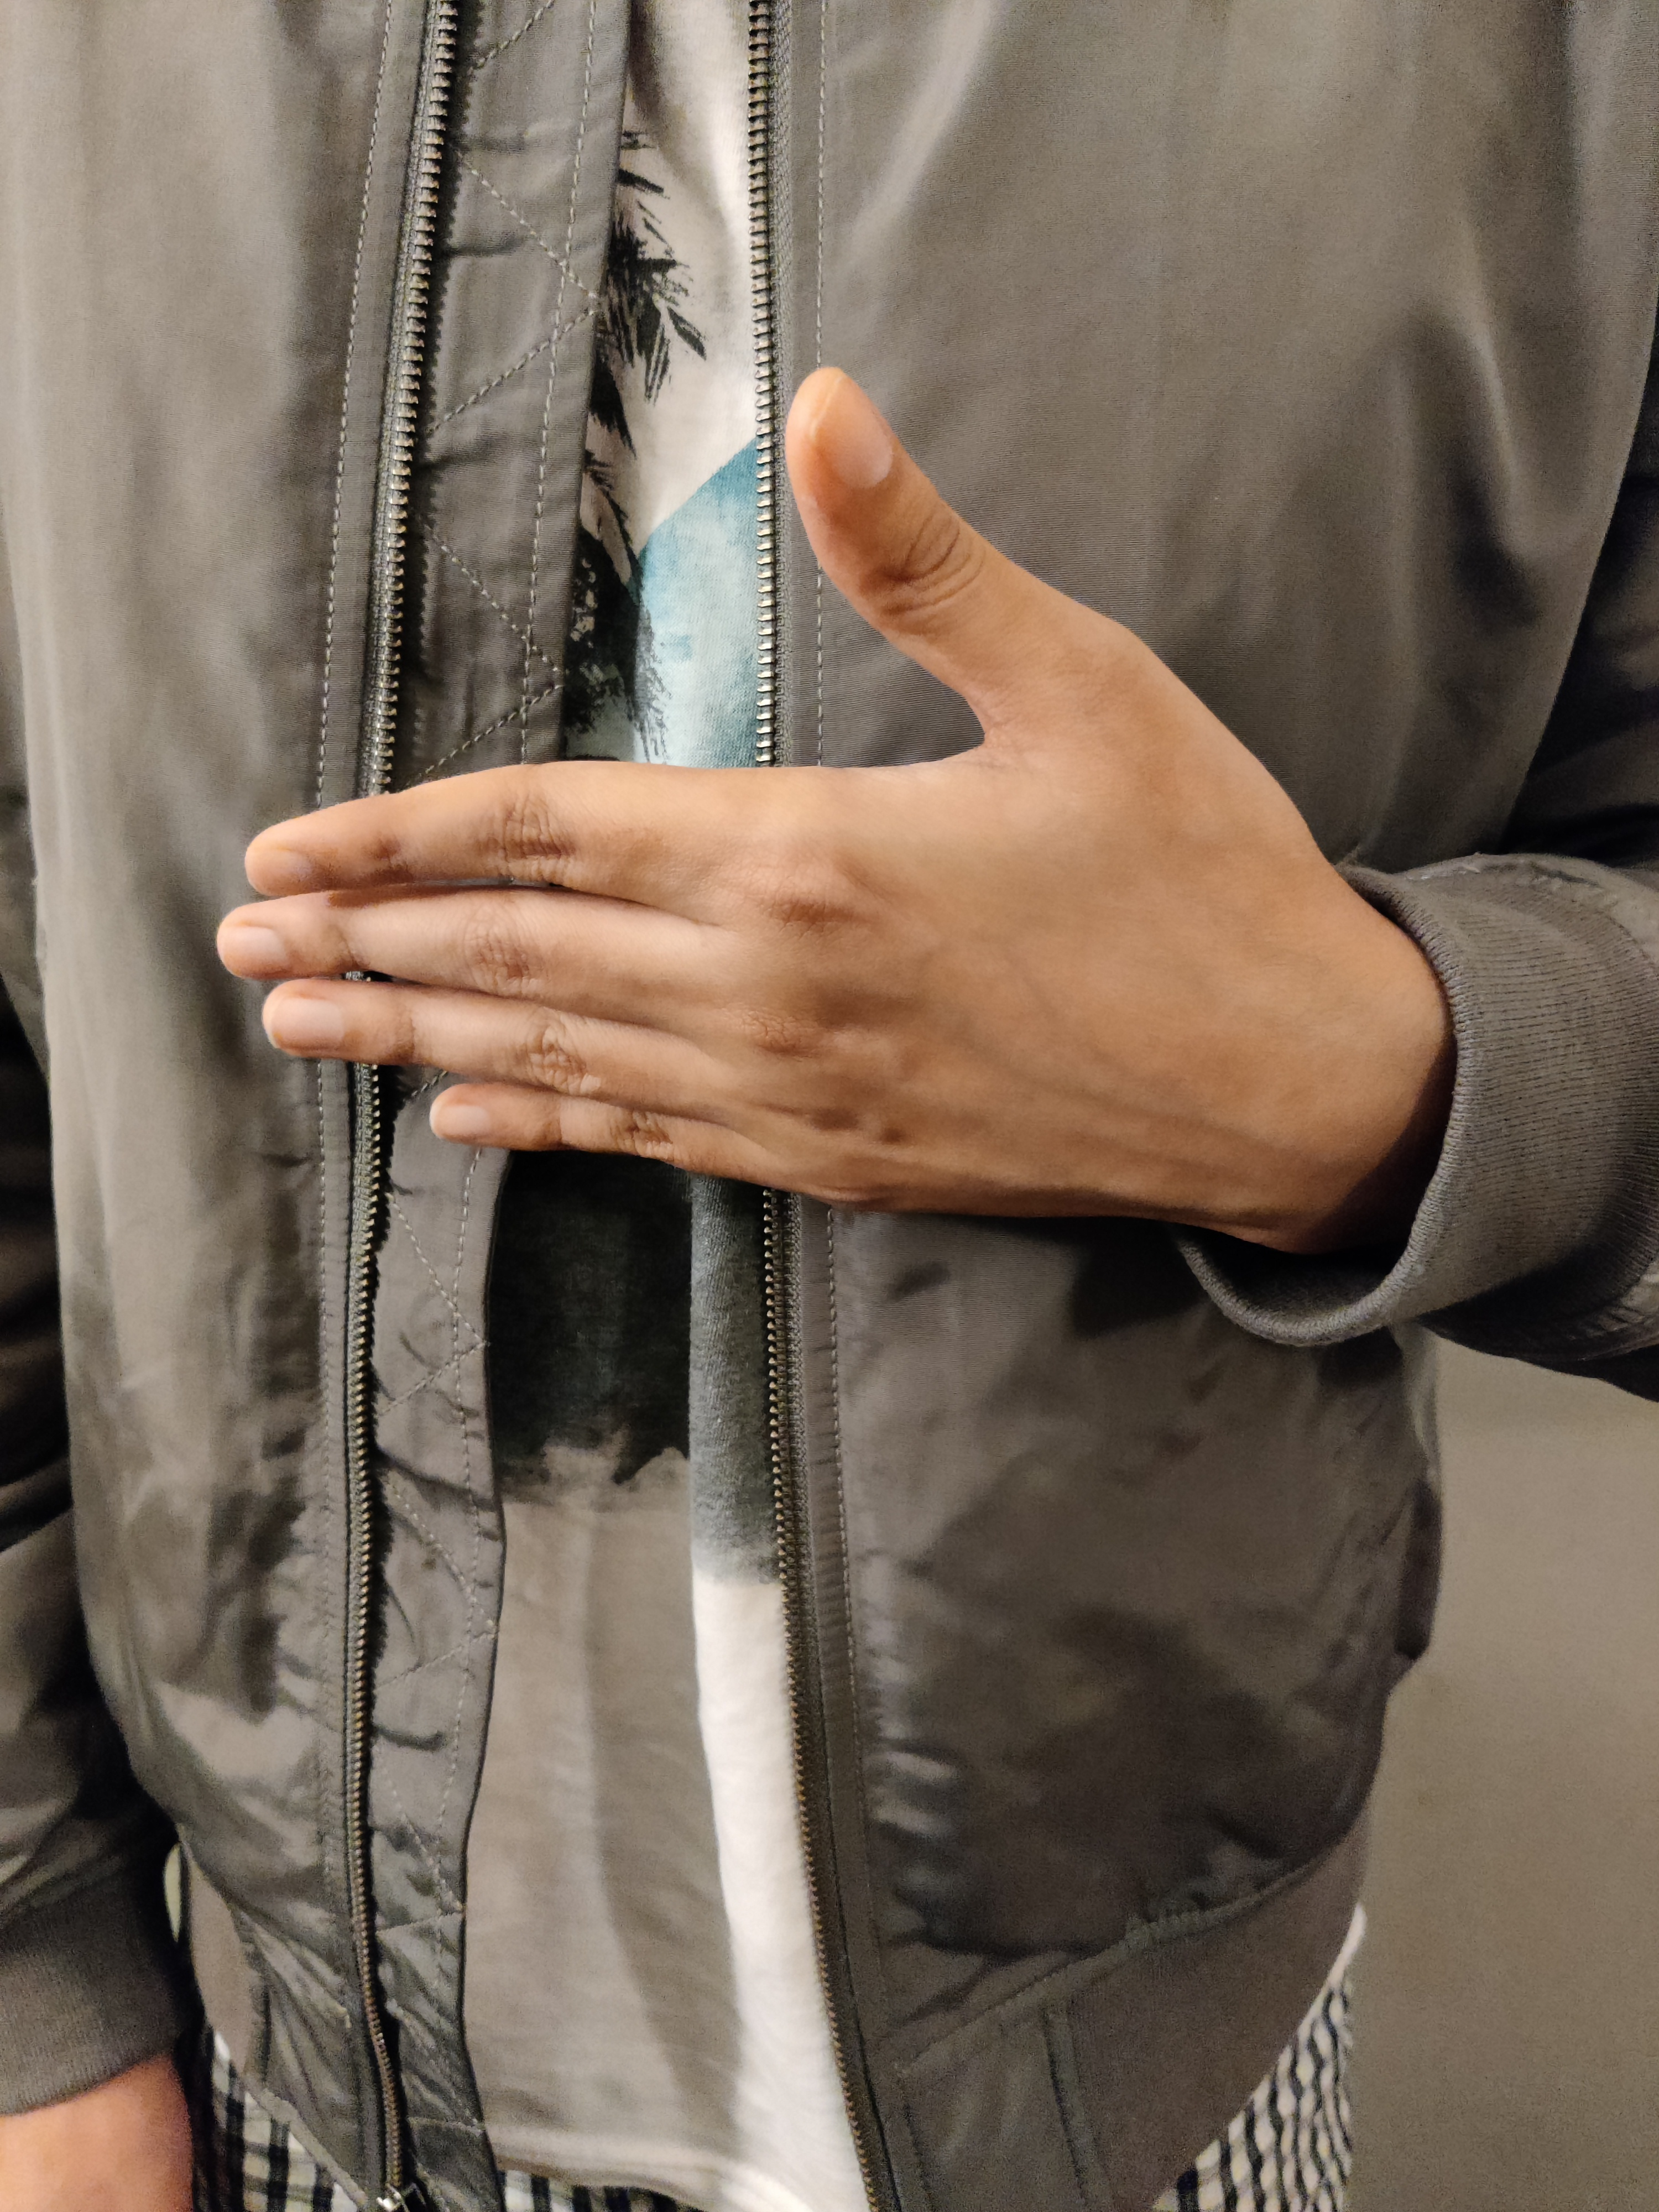right: (61, 233, 1624, 1421)
